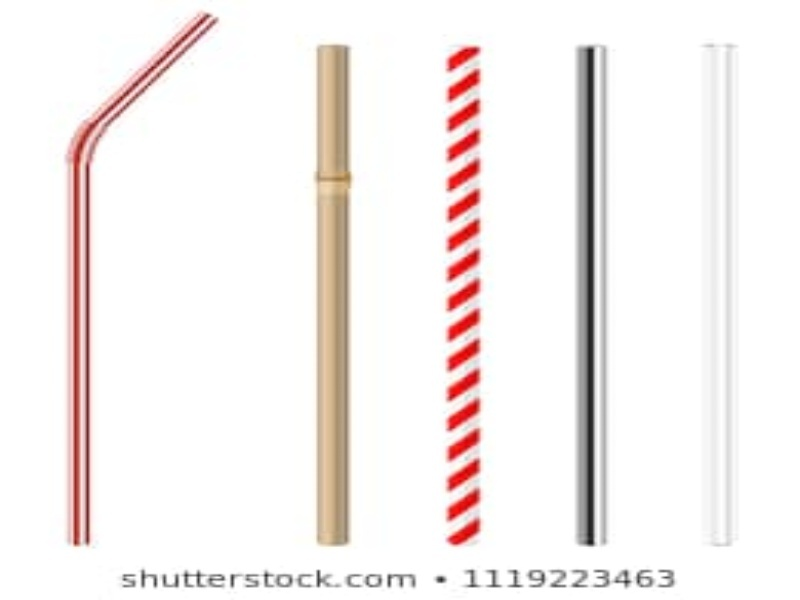straw: (67, 11, 219, 547), (438, 44, 488, 549), (569, 43, 619, 548), (309, 42, 359, 547), (700, 44, 750, 549)
